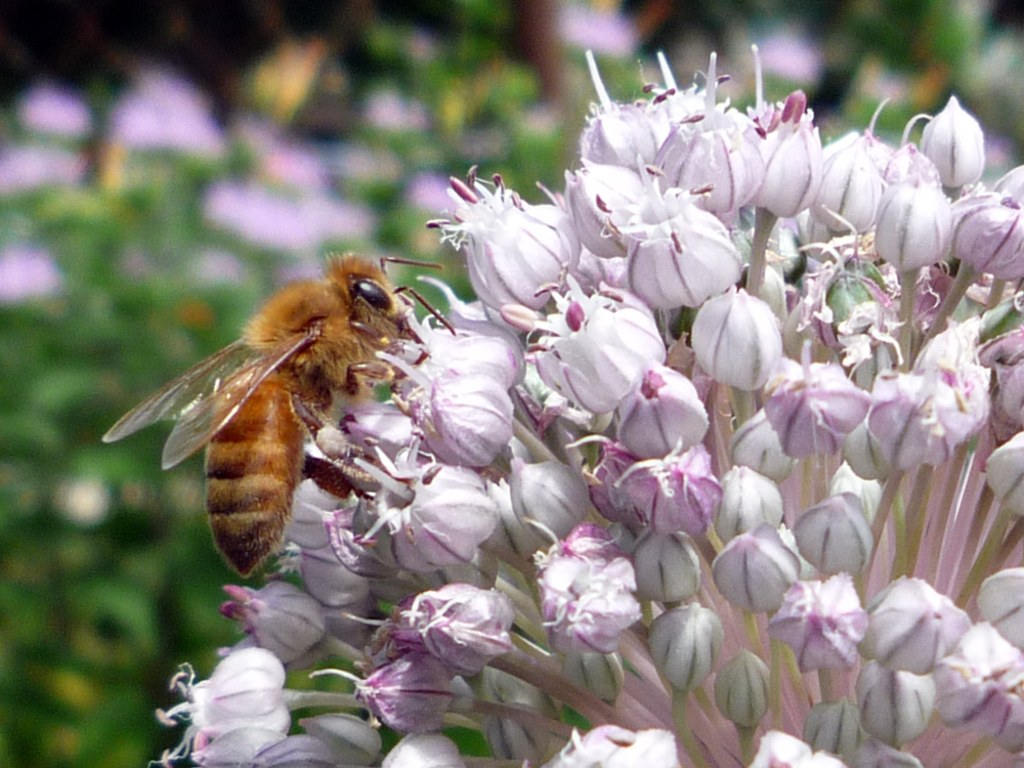bee: (101, 251, 447, 572)
